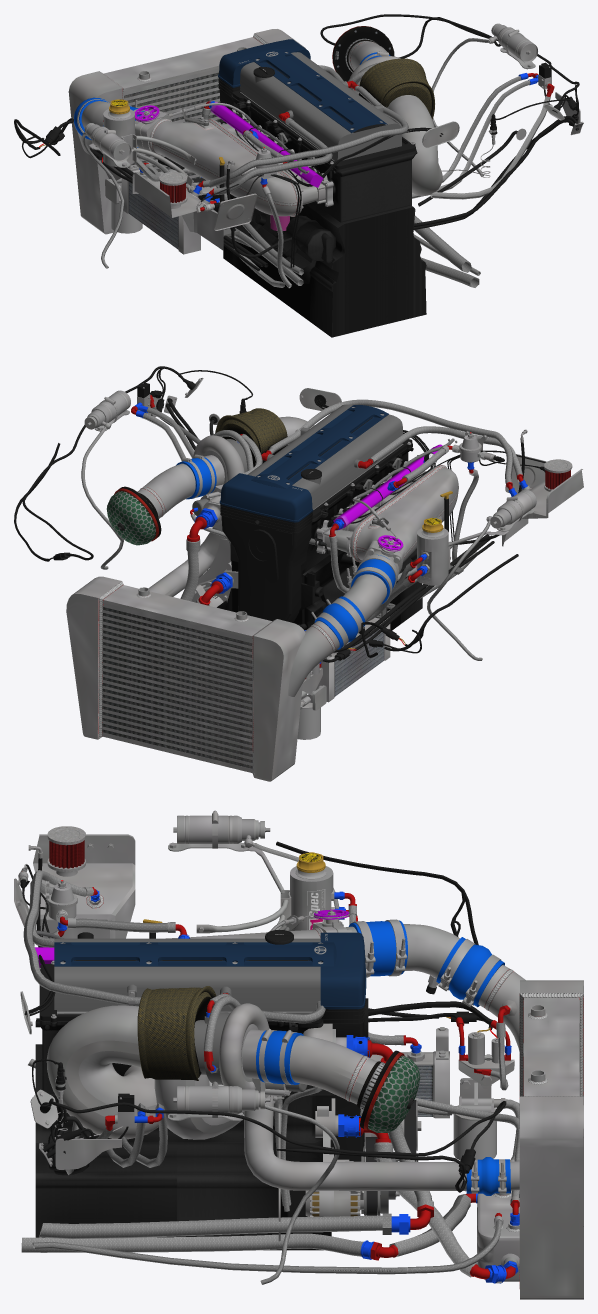
Rendered from toyota-2jz-gte-engine-free-7ebc97.glb.
3 views of the same model, one above another, from view 1: azimuth 30°, elevation 25°; view 2: azimuth 150°, elevation 25°; view 3: azimuth 270°, elevation 25° (orthographic). The views are drawn at different scales.
Visible parts, largest first — view 1: Object_11, Object_9, Object_3, Object_12, Object_8, Object_4, Object_5, Object_6, Object_2, Object_13; view 2: Object_9, Object_11, Object_3, Object_8, Object_6, Object_12, Object_4, Object_5, Object_2, Object_13; view 3: Object_9, Object_11, Object_12, Object_3, Object_8, Object_5, Object_4, Object_6, Object_2, Object_13.
Boxes of the visible parts, x1,y1,x2,y2 form: Object_11: (111, 58, 434, 337); Object_9: (68, 23, 583, 254); Object_3: (79, 49, 415, 236); Object_12: (81, 38, 550, 288); Object_8: (111, 51, 442, 233); Object_4: (14, 14, 579, 271); Object_5: (74, 52, 578, 211); Object_6: (218, 39, 310, 123); Object_2: (332, 26, 394, 81); Object_13: (99, 33, 377, 216); Object_9: (66, 378, 583, 781); Object_11: (102, 408, 570, 768); Object_3: (176, 404, 463, 649); Object_8: (182, 416, 458, 739); Object_6: (219, 473, 313, 622); Object_12: (81, 399, 522, 708); Object_4: (14, 366, 545, 662); Object_5: (131, 379, 545, 678); Object_2: (106, 486, 161, 545); Object_13: (98, 465, 532, 777); Object_9: (14, 810, 583, 1299); Object_11: (35, 840, 432, 1250); Object_12: (21, 843, 519, 1284); Object_3: (35, 909, 504, 1234); Object_8: (46, 910, 496, 1241); Object_5: (20, 852, 519, 1283); Object_4: (22, 841, 506, 1192); Object_6: (320, 932, 368, 1161); Object_2: (357, 1050, 420, 1132); Object_13: (86, 894, 583, 1288).
Bounding box in the file's own units: 4.8 × 2.2 × 3.77.
Materials: 6 (6 with a texture image).
